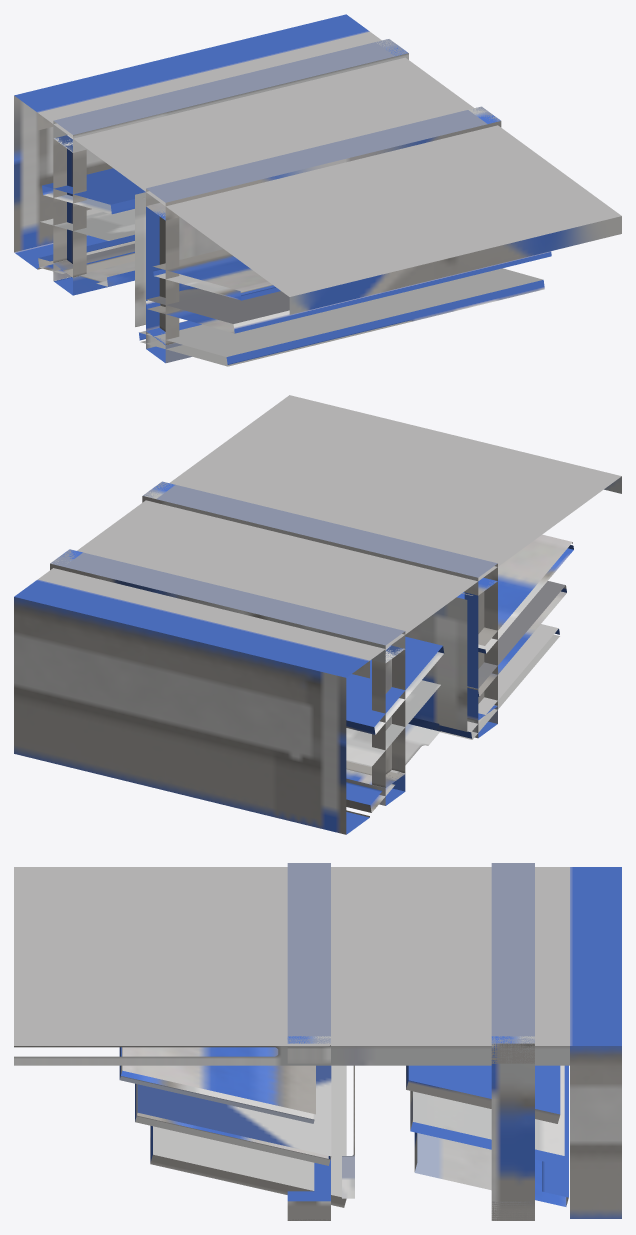
Rendered from section-7.obj.
The picture shows the model from 3 angles, top to bottom: view 1: azimuth 30°, elevation 25°; view 2: azimuth 150°, elevation 25°; view 3: azimuth 270°, elevation 25°; orthographic projection. The views are drawn at different scales.
Size of the model in its own units: 0.985 by 0.45 by 1.4.
